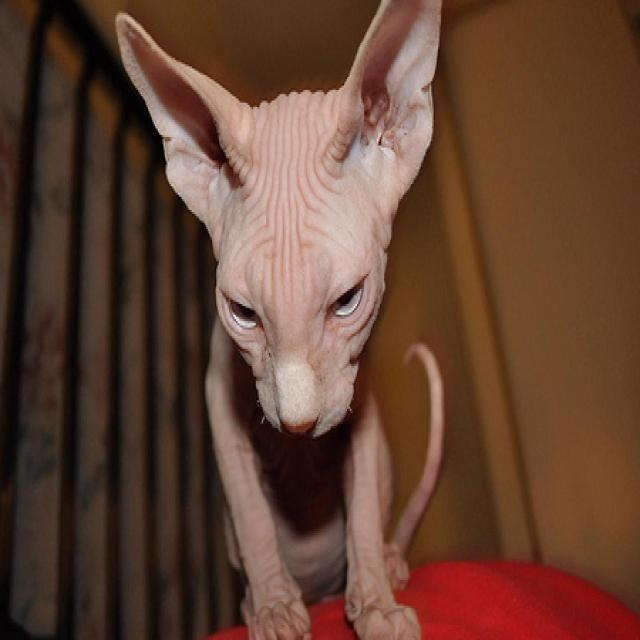Sphynx: (110, 0, 450, 640)
